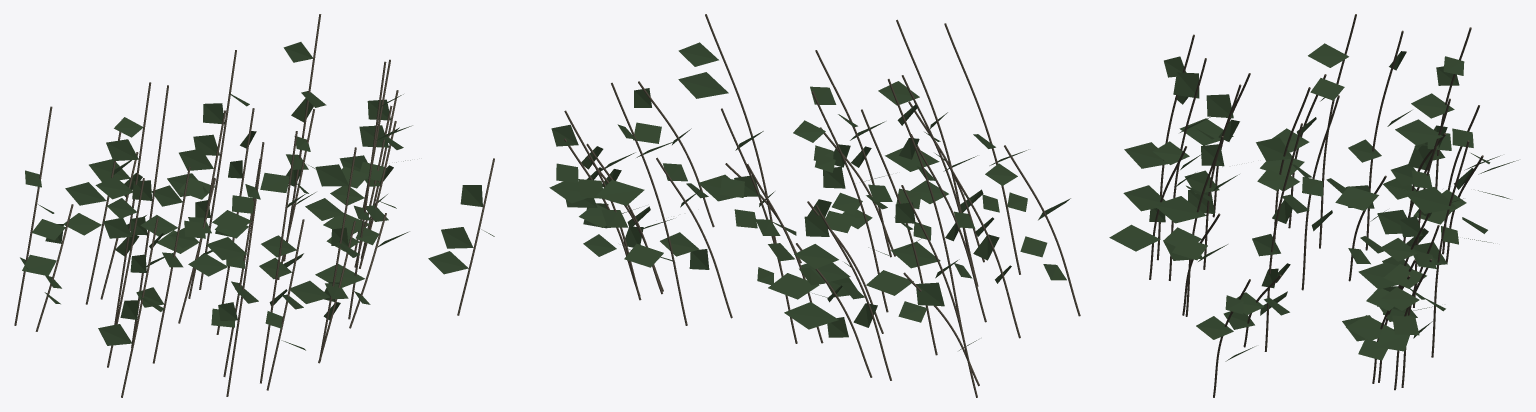
The model's file is bramble-patch.glb.
The picture shows the model from 3 angles, left to right: view 1: azimuth 30°, elevation 25°; view 2: azimuth 150°, elevation 25°; view 3: azimuth 270°, elevation 25°; orthographic projection. The views are drawn at different scales.
Parts seen in each view (by area): view 1: Leaves, Bramble stem.019, Bramble stem.014, Bramble stem.021, Bramble stem.025, Bramble stem.017, Bramble stem.023, Bramble stem.011, Bramble stem.001, Bramble stem.003, Bramble stem.016, Bramble stem.020 (+2 smaller); view 2: Leaves, Bramble stem.023, Bramble stem.003, Bramble stem.014, Bramble stem.011, Bramble stem.026, Bramble stem.019, Bramble stem.017, Bramble stem.021, Bramble stem.009, Bramble stem.024, Bramble stem.001 (+5 smaller); view 3: Leaves, Bramble stem.003, Bramble stem.019, Bramble stem.017, Bramble stem.023, Bramble stem.026, Bramble stem.021, Bramble stem.014, Bramble stem.009, Bramble stem.001.
Boxes of the visible parts, x1,y1,x2,y2 form: Leaves: [20, 42, 494, 350]; Bramble stem.019: [348, 61, 386, 319]; Bramble stem.014: [226, 142, 264, 396]; Bramble stem.021: [260, 131, 297, 383]; Bramble stem.025: [199, 50, 236, 289]; Bramble stem.017: [114, 82, 151, 324]; Bramble stem.023: [131, 85, 168, 347]; Bramble stem.011: [14, 106, 52, 325]; Bramble stem.001: [319, 147, 356, 361]; Bramble stem.003: [283, 14, 321, 261]; Bramble stem.016: [152, 167, 190, 363]; Bramble stem.020: [121, 217, 158, 397]; Leaves: [549, 42, 1070, 350]; Bramble stem.023: [887, 79, 963, 335]; Bramble stem.003: [611, 82, 687, 325]; Bramble stem.014: [944, 23, 1020, 274]; Bramble stem.011: [901, 185, 977, 397]; Bramble stem.026: [811, 91, 888, 312]; Bramble stem.019: [705, 14, 776, 243]; Bramble stem.017: [861, 109, 937, 355]; Bramble stem.021: [896, 19, 967, 250]; Bramble stem.009: [901, 75, 978, 286]; Bramble stem.024: [944, 157, 1020, 338]; Bramble stem.001: [815, 50, 891, 257]; Leaves: [1109, 43, 1518, 361]; Bramble stem.003: [1431, 140, 1469, 357]; Bramble stem.019: [1264, 123, 1302, 351]; Bramble stem.017: [1365, 30, 1403, 250]; Bramble stem.023: [1319, 14, 1356, 248]; Bramble stem.026: [1301, 95, 1339, 290]; Bramble stem.021: [1168, 58, 1206, 280]; Bramble stem.014: [1156, 34, 1194, 260]; Bramble stem.009: [1203, 84, 1241, 269]; Bramble stem.001: [1185, 136, 1223, 316].
Bounding box in the file's own units: 1.88 × 1.04 × 1.49.
